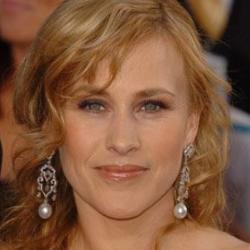face: (8, 3, 236, 228)
